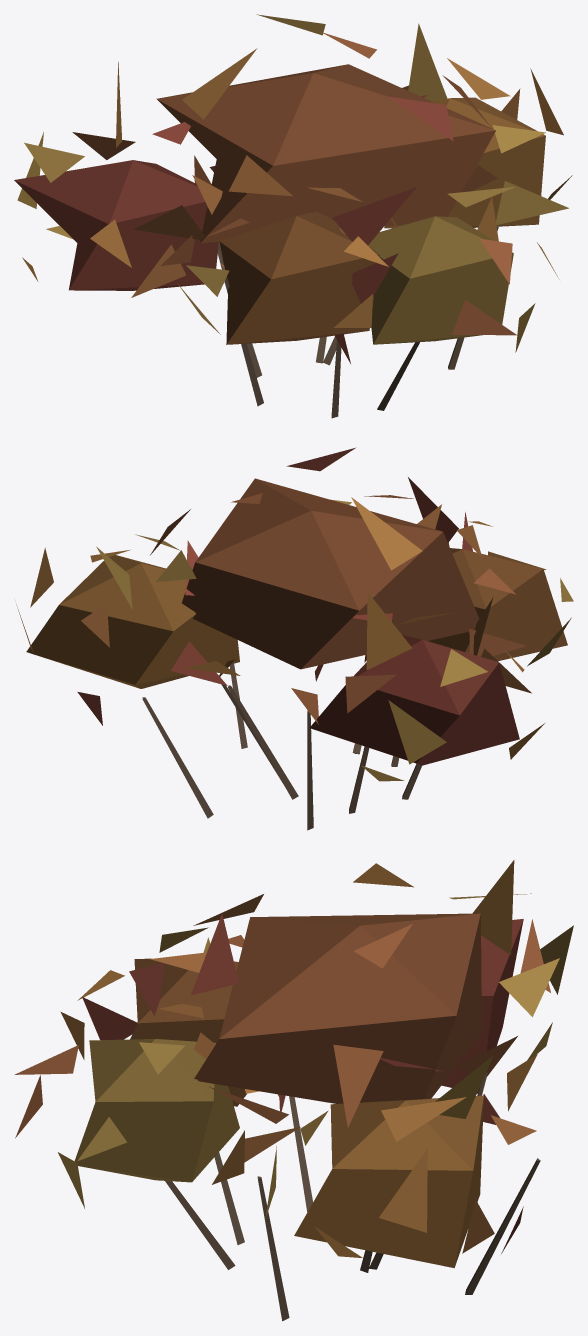
File: sand-plum-lite.glb
3 renders of one model, top to bottom at view 1: azimuth 30°, elevation 25°; view 2: azimuth 150°, elevation 25°; view 3: azimuth 270°, elevation 25°, orthographic. The views are drawn at different scales.
Visible parts, largest first — view 1: sand-plum-lite / foliage-core, sand-plum-lite / foliage, sand-plum-lite / wood; view 2: sand-plum-lite / foliage-core, sand-plum-lite / foliage, sand-plum-lite / wood; view 3: sand-plum-lite / foliage-core, sand-plum-lite / foliage, sand-plum-lite / wood.
Part boxes in pixels (box(x1,y1,x2,y2)): sand-plum-lite / foliage-core: box(14, 64, 545, 344); sand-plum-lite / foliage: box(17, 14, 572, 363); sand-plum-lite / wood: box(217, 226, 498, 418); sand-plum-lite / foliage-core: box(26, 478, 567, 765); sand-plum-lite / foliage: box(16, 447, 573, 781); sand-plum-lite / wood: box(142, 664, 421, 830); sand-plum-lite / foliage-core: box(74, 913, 523, 1268); sand-plum-lite / foliage: box(14, 860, 573, 1257); sand-plum-lite / wood: box(165, 1072, 540, 1321).
Bounding box in the file's own units: 3.02 × 1.81 × 2.46.
